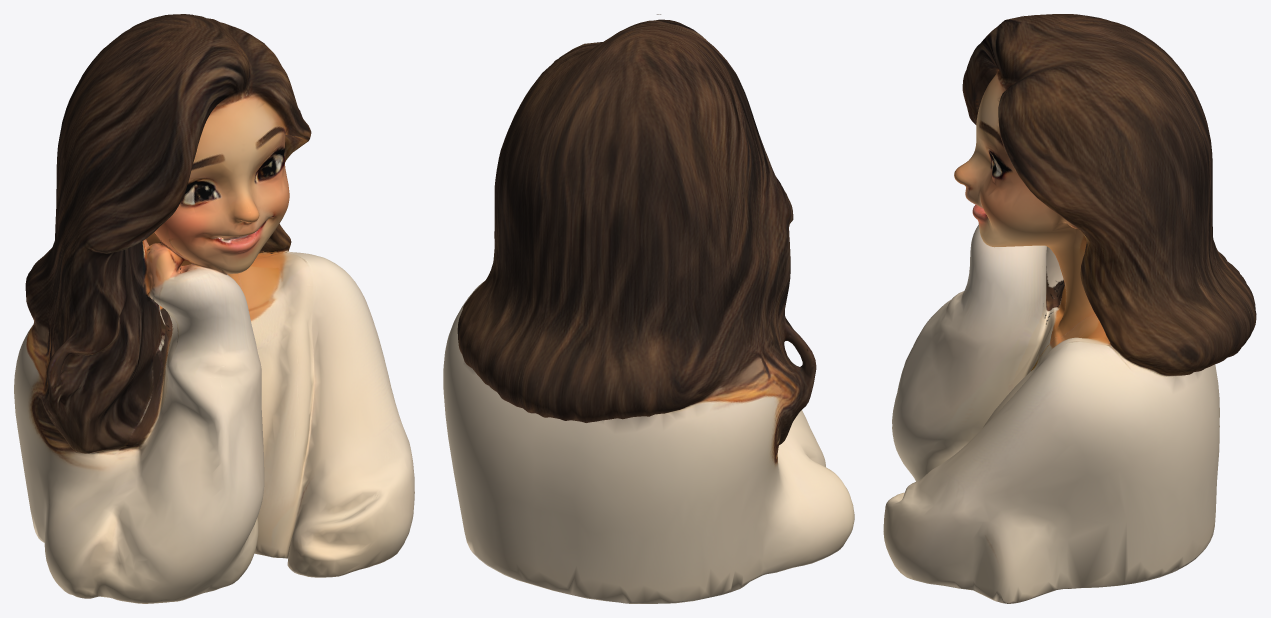
The model's file is ref-rodin-web.glb.
3 renders of one model, left to right at view 1: azimuth 30°, elevation 25°; view 2: azimuth 150°, elevation 25°; view 3: azimuth 270°, elevation 25°, orthographic.
Visible parts, largest first — view 1: model; view 2: model; view 3: model.
Boxes of the visible parts, <box> form: model: <box>14,14,414,603</box>; model: <box>443,14,854,603</box>; model: <box>883,14,1256,603</box>.
Size of the model in its own units: 1.37 by 1.9 by 1.28.
Materials: 1 (1 with a texture image).
